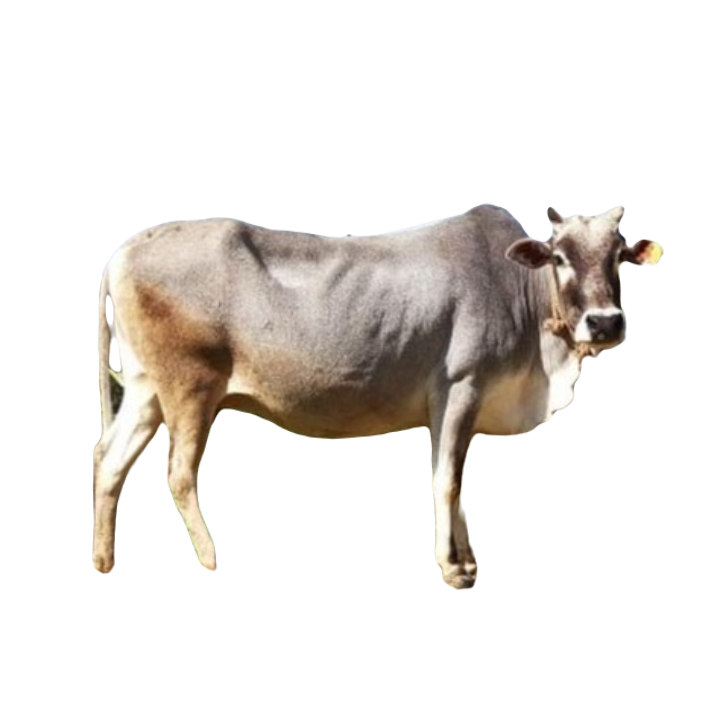Cow: (91, 206, 664, 590)
